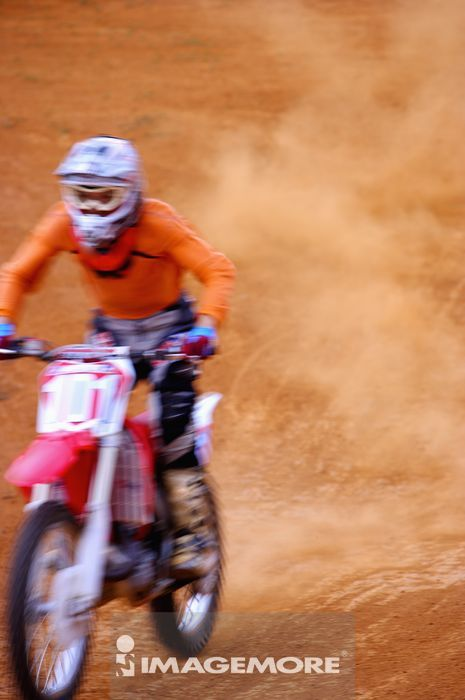helmet: (50, 127, 141, 234)
